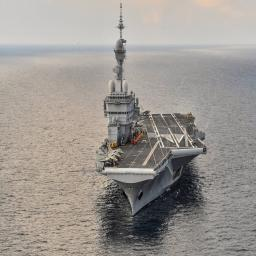Portanaves: (96, 1, 210, 221)
